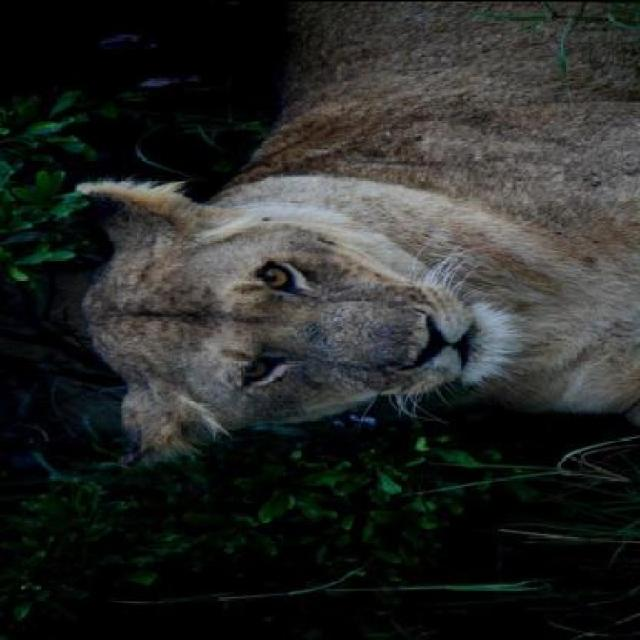Lion: (67, 3, 638, 455)
